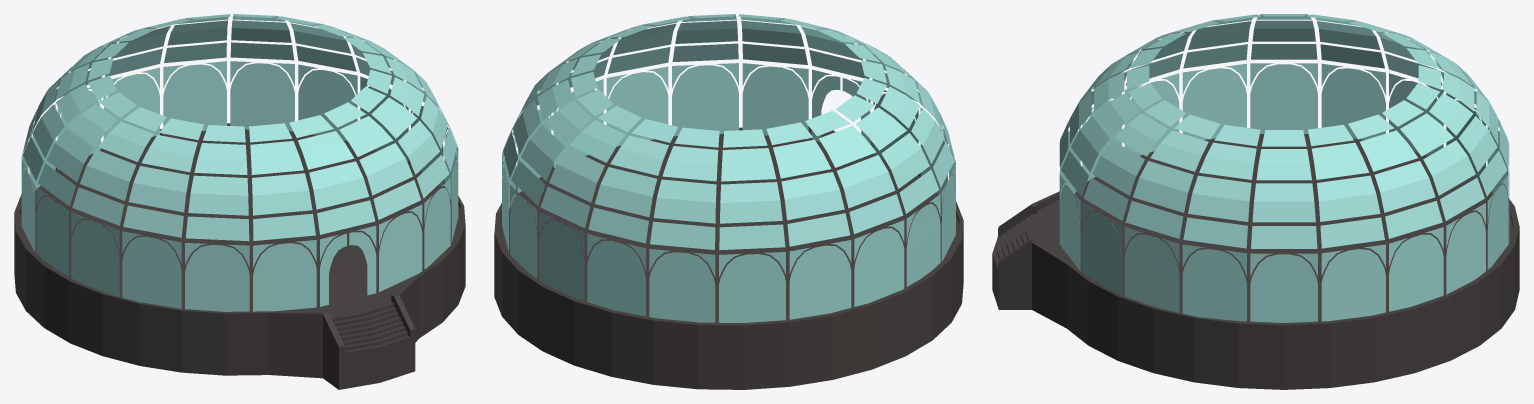
The model's file is Greenhouse Collider.fbx.
The picture shows the model from 3 angles, left to right: view 1: azimuth 30°, elevation 25°; view 2: azimuth 150°, elevation 25°; view 3: azimuth 270°, elevation 25°; orthographic projection. The views are drawn at different scales.
Parts seen in each view (by area): view 1: SmallGreenhouse_Collider:SmallGreenhouse_Collider; view 2: SmallGreenhouse_Collider:SmallGreenhouse_Collider; view 3: SmallGreenhouse_Collider:SmallGreenhouse_Collider.
Boxes of the visible parts, x1,y1,x2,y2 form: SmallGreenhouse_Collider:SmallGreenhouse_Collider: [14, 14, 465, 389]; SmallGreenhouse_Collider:SmallGreenhouse_Collider: [494, 14, 963, 389]; SmallGreenhouse_Collider:SmallGreenhouse_Collider: [992, 14, 1519, 389].
Size of the model in its own units: 2725 by 1389 by 3051.
